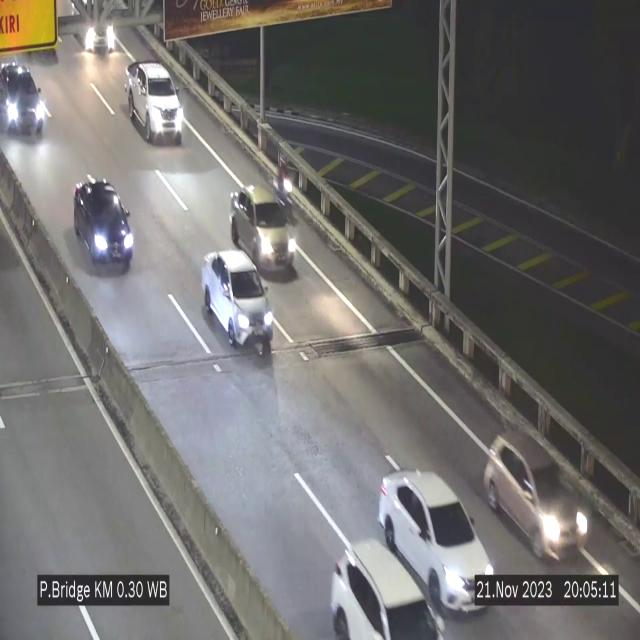Car: (377, 466, 496, 616), (482, 423, 592, 570), (319, 531, 446, 640), (202, 250, 274, 348), (231, 184, 294, 276), (74, 182, 134, 270), (126, 61, 184, 142), (0, 60, 47, 142), (72, 4, 116, 55)
Motorcycle: (274, 149, 294, 211)
